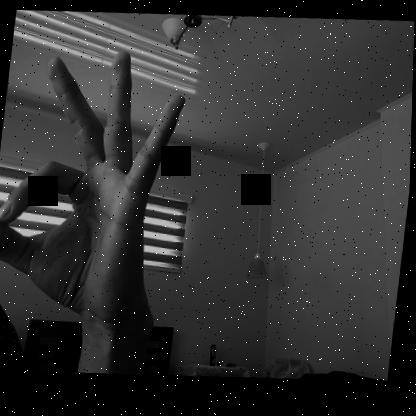F: (0, 36, 194, 336)
